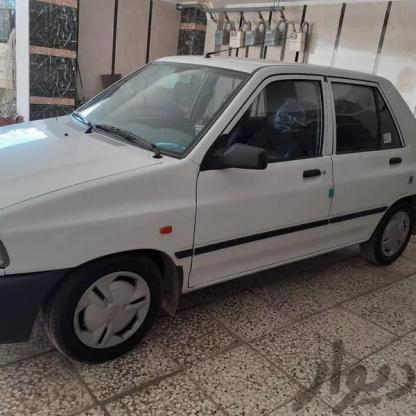Car: (0, 48, 416, 360)
